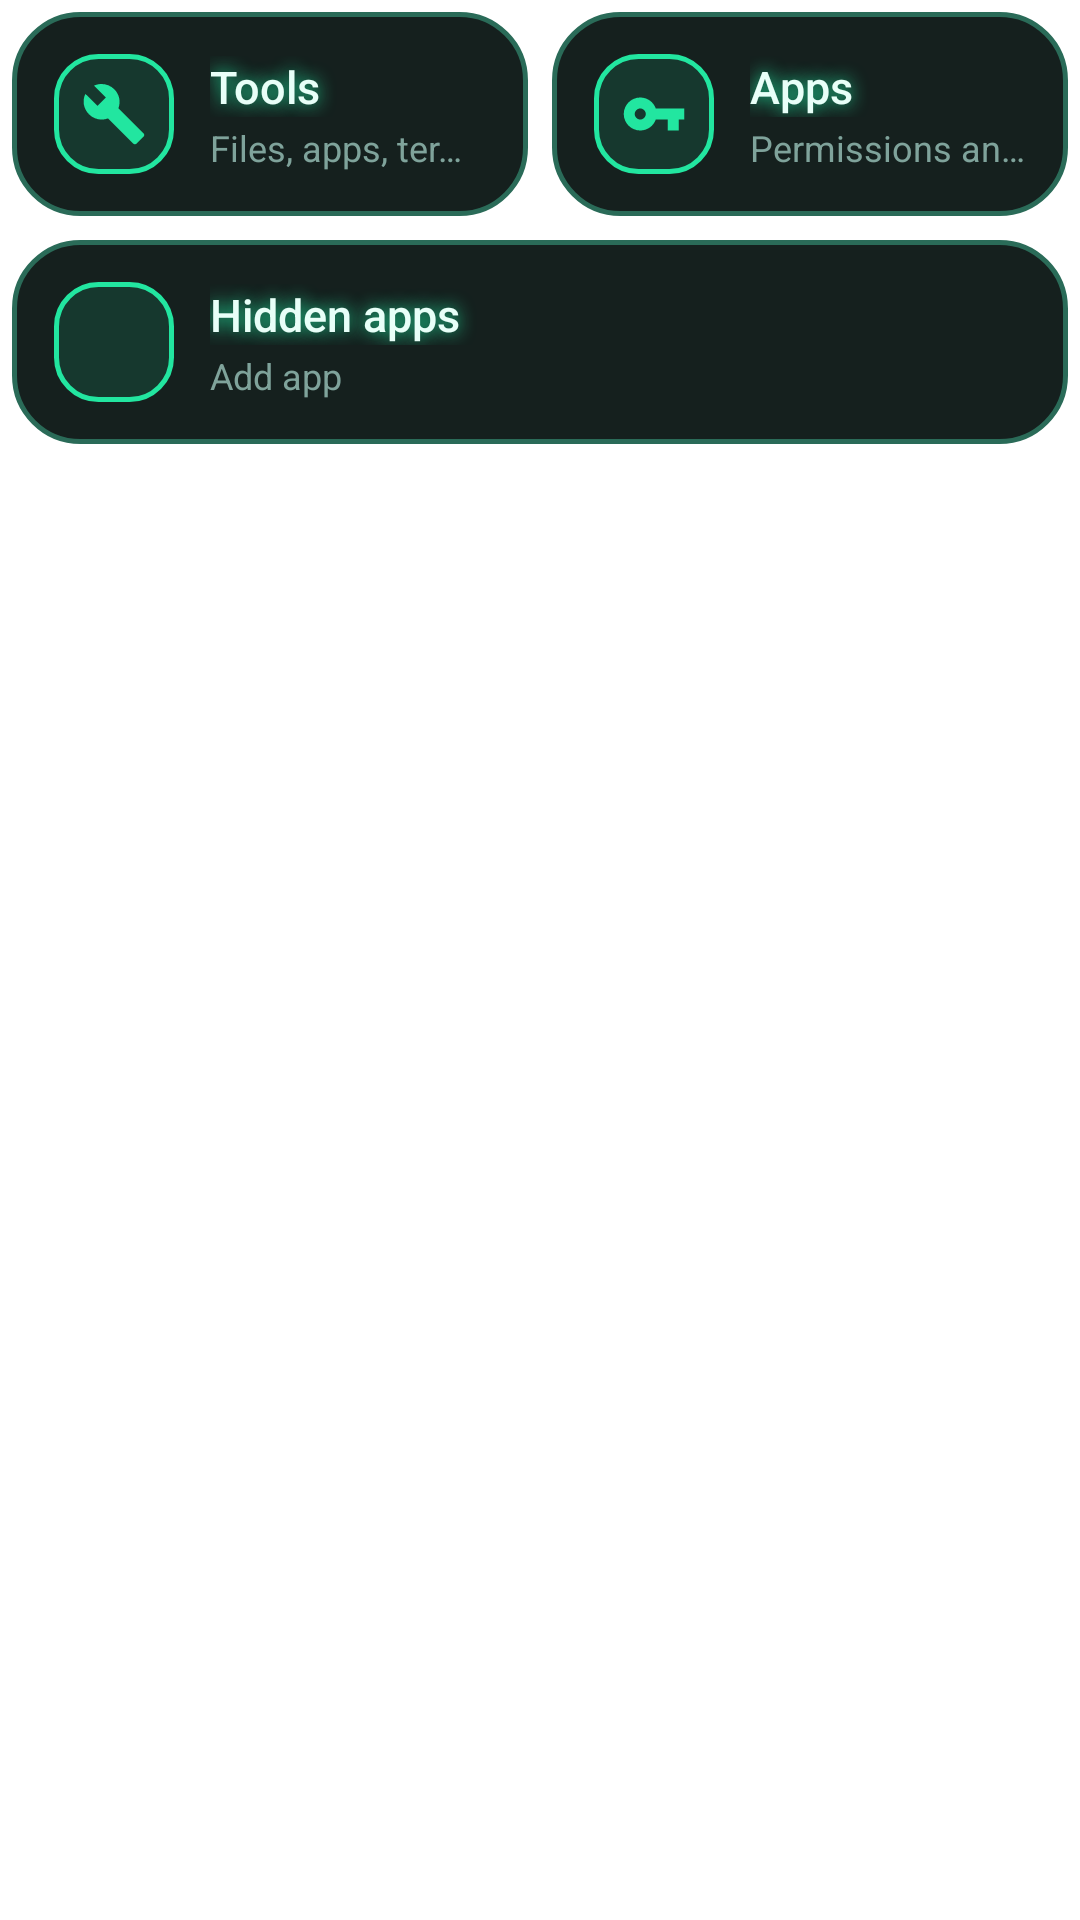

Icon click points for this 1080w x 1920h phone screenshot, format (x=x, y=y):
key: (x=654, y=114)
